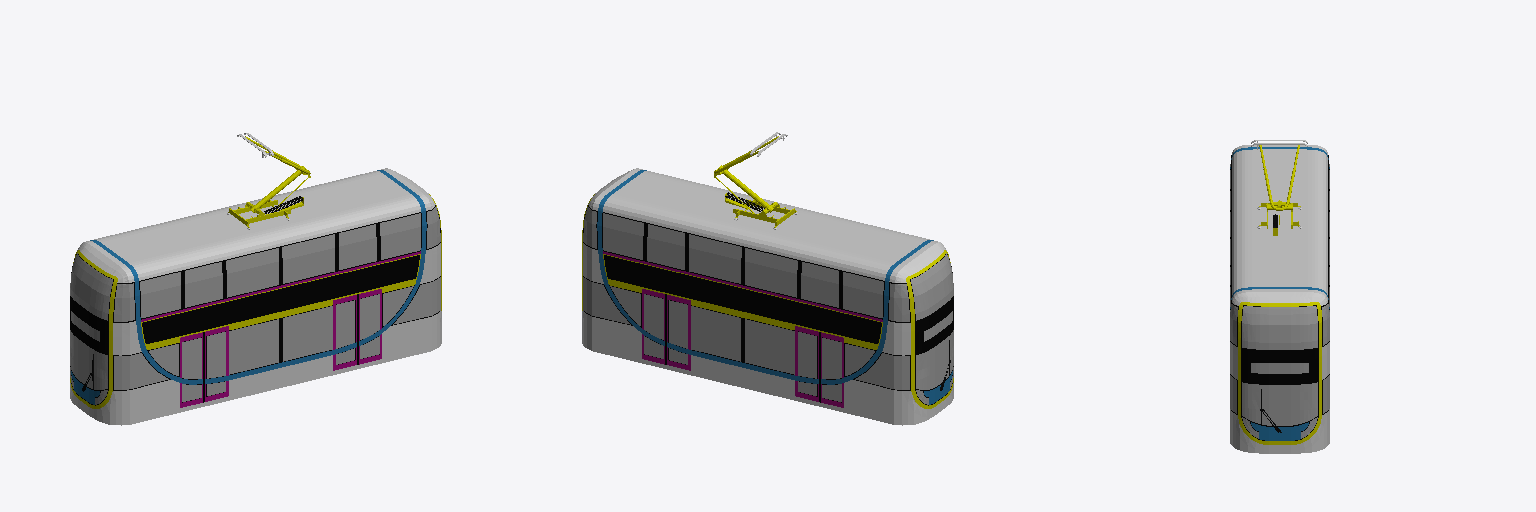
The model's file is doubledecker.obj.
3 renders of one model, left to right at view 1: azimuth 30°, elevation 25°; view 2: azimuth 150°, elevation 25°; view 3: azimuth 270°, elevation 25°, orthographic.
Parts seen in each view (by area): view 1: Tram_Cube; view 2: Tram_Cube; view 3: Tram_Cube.
Boxes of the visible parts, box(x1,y1,x2,y2) form: Tram_Cube: box(70, 133, 441, 425); Tram_Cube: box(582, 132, 953, 425); Tram_Cube: box(1230, 140, 1329, 453).
Size of the model in its own units: 8.02 by 5.02 by 2.